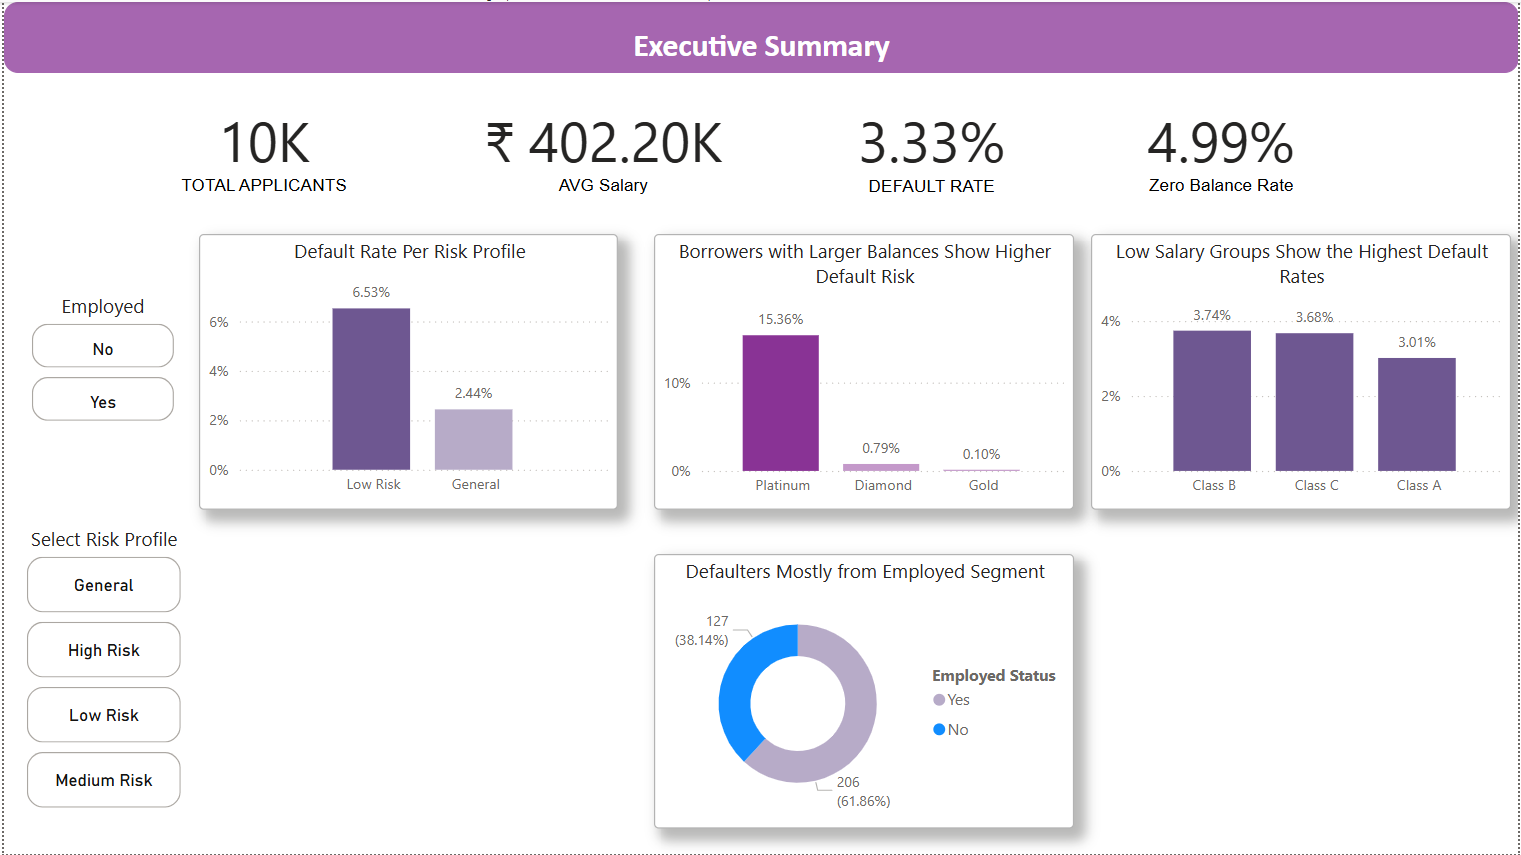

Layout of this report page (visuals, bound fields, positions):
{"tool":"powerbi","page":{"name":" Executive Summary","canvas":[1280,720],"ordinal":0},"visuals":[{"type":"card","fields":{"Values":["Measures_table.m_No of Clients"]},"box":[111.7,71.2,216.5,106.1],"z":1000},{"type":"advancedSlicerVisual","title":"Employed ","fields":{"Values":["f_Default_Fin.Employed Status"]},"box":[19,245.5,130.1,114],"z":2000},{"type":"image","box":[437.6,21.5,40,40],"z":3000},{"type":"textbox","box":[0,0,1280,59.7],"z":4000},{"type":"card","fields":{"Values":["Measures_table.m_Avg Salary"]},"box":[388.6,71.2,235.5,106.1],"z":5000},{"type":"card","fields":{"Values":["Measures_table.m_% of Defaulters"]},"box":[665.5,71.6,236.1,105.5],"z":6000},{"type":"card","fields":{"Values":["Measures_table.m_% of Bal zero"]},"box":[911.3,71.2,235.5,106.1],"z":7000},{"type":"columnChart","title":"Borrowers with Larger Balances Show Higher Default Risk","fields":{"Category":["f_Default_Fin.Balance Group"],"Y":["Measures_table.m_% of Defaulters"]},"box":[549.4,195.8,354.5,232.9],"z":8000},{"type":"columnChart","title":"Low Salary Groups Show the Highest Default Rates","fields":{"Category":["f_Default_Fin.Salary Group"],"Y":["Measures_table.m_% of Defaulters"]},"box":[918.6,195.8,354.5,232.9],"z":9000},{"type":"columnChart","title":"Default Rate Per Risk Profile","fields":{"Category":["f_Default_Fin.Risk Profile"],"Y":["Measures_table.m_% of Defaulters"]},"box":[165.2,195.6,354.4,232.6],"z":10000},{"type":"donutChart","title":"Defaulters Mostly from Employed Segment","fields":{"Category":["f_Default_Fin.Employed Status"],"Y":["Measures_table.m_Total Defaulters"]},"box":[549.2,466.2,354.9,232.1],"z":11000},{"type":"advancedSlicerVisual","title":"Select Risk Profile","fields":{"Values":["f_Default_Fin.Risk Profile"]},"box":[14.7,442.5,140.6,244.1],"z":12000}]}

Visuals, with their boxes in screenshot pixels (x1, y1, x2, y2), scaled from the page's 1280x720 canvas onto the 1521x855 screenshot:
card - Measures_table.m_No of Clients: 133:85:390:211
"Employed " advancedSlicerVisual: 23:292:177:427
image: 520:26:568:73
textbox: 0:0:1520:71
card - Measures_table.m_Avg Salary: 462:85:742:211
card - Measures_table.m_% of Defaulters: 791:85:1071:210
card - Measures_table.m_% of Bal zero: 1083:85:1363:211
"Borrowers with Larger Balances Show Higher Default Risk" columnChart: 653:233:1074:509
"Low Salary Groups Show the Highest Default Rates" columnChart: 1092:233:1513:509
"Default Rate Per Risk Profile" columnChart: 196:232:617:508
"Defaulters Mostly from Employed Segment" donutChart: 653:554:1074:829
"Select Risk Profile" advancedSlicerVisual: 17:525:185:815
